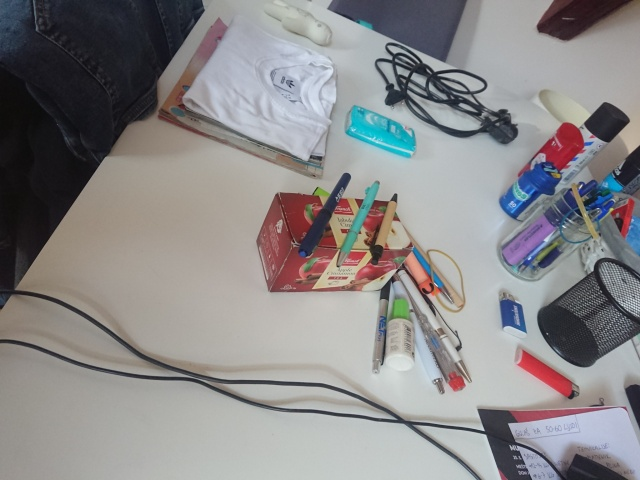Franck Apple Cinnamon Tea 60g: (254, 190, 415, 293)
